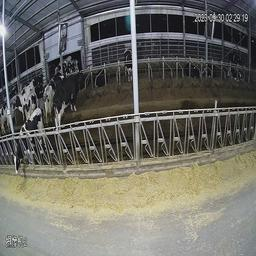cow: (12, 106, 45, 190), (52, 67, 81, 135), (20, 77, 42, 113), (43, 69, 55, 121), (54, 55, 82, 75), (226, 63, 246, 90), (88, 66, 109, 91), (185, 59, 204, 86), (121, 47, 133, 85), (204, 56, 220, 82)
